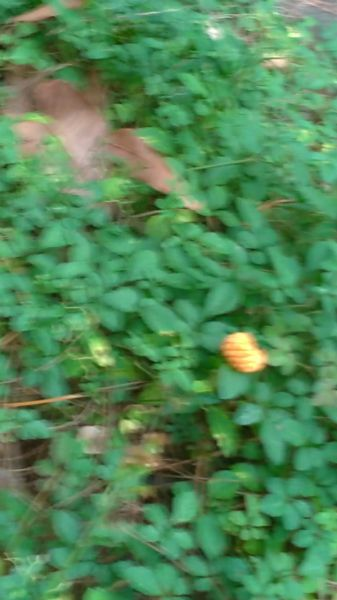eggs: (214, 328, 270, 380)
